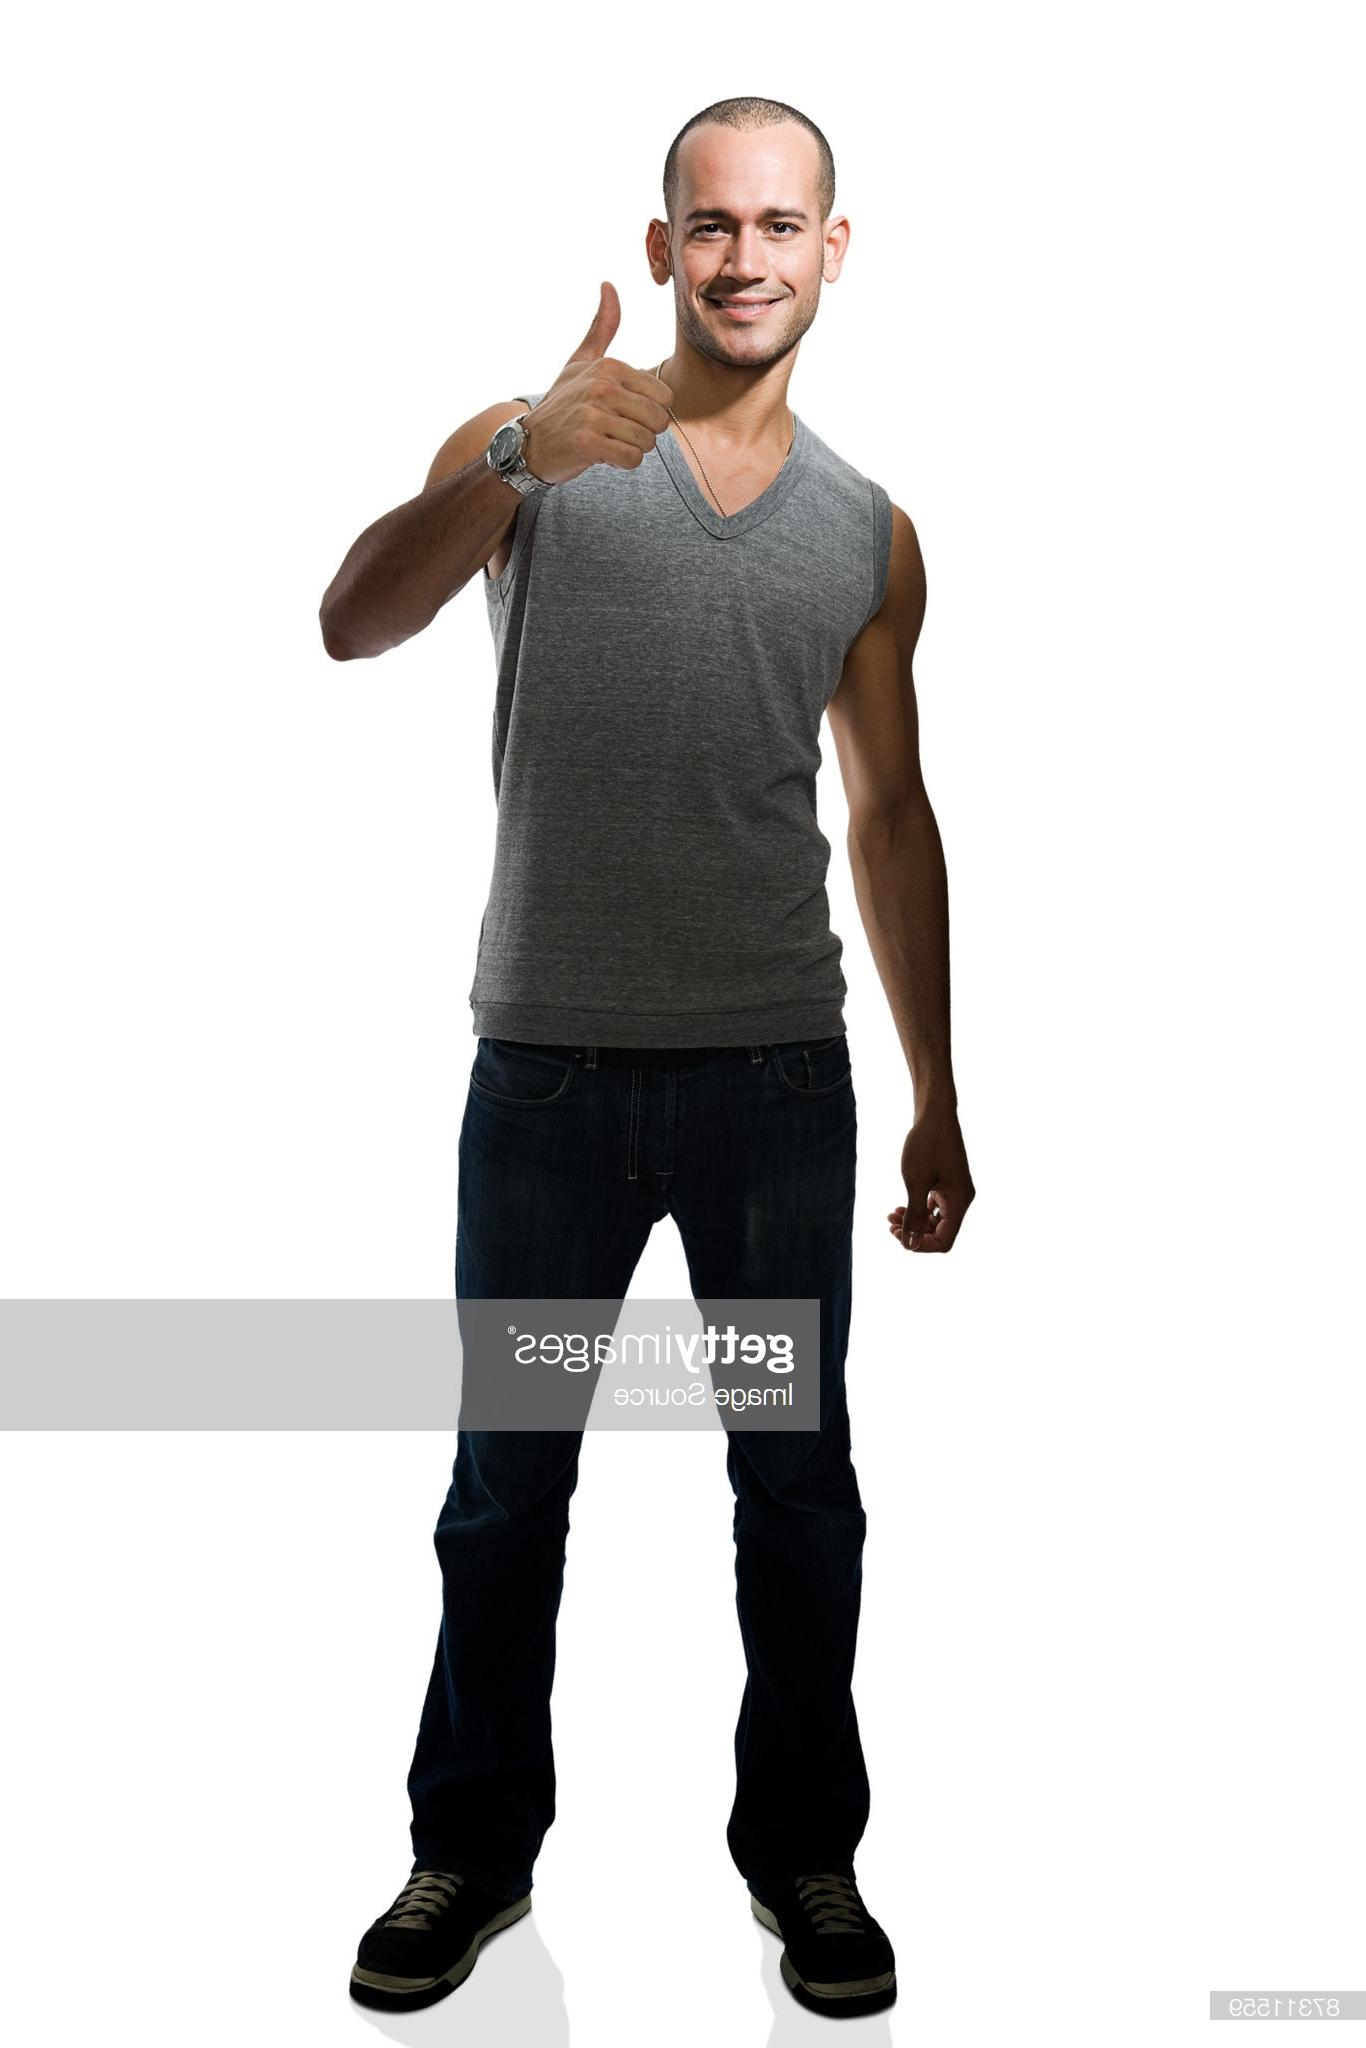thumbsup: (576, 280, 675, 469)
